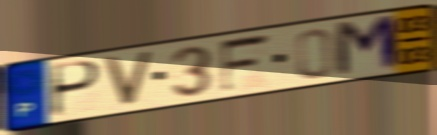0: (294, 27, 335, 81)
3: (168, 44, 214, 100)
F: (218, 31, 274, 96)
M: (332, 12, 403, 80)
P: (49, 59, 104, 120)
V: (101, 50, 157, 108)
